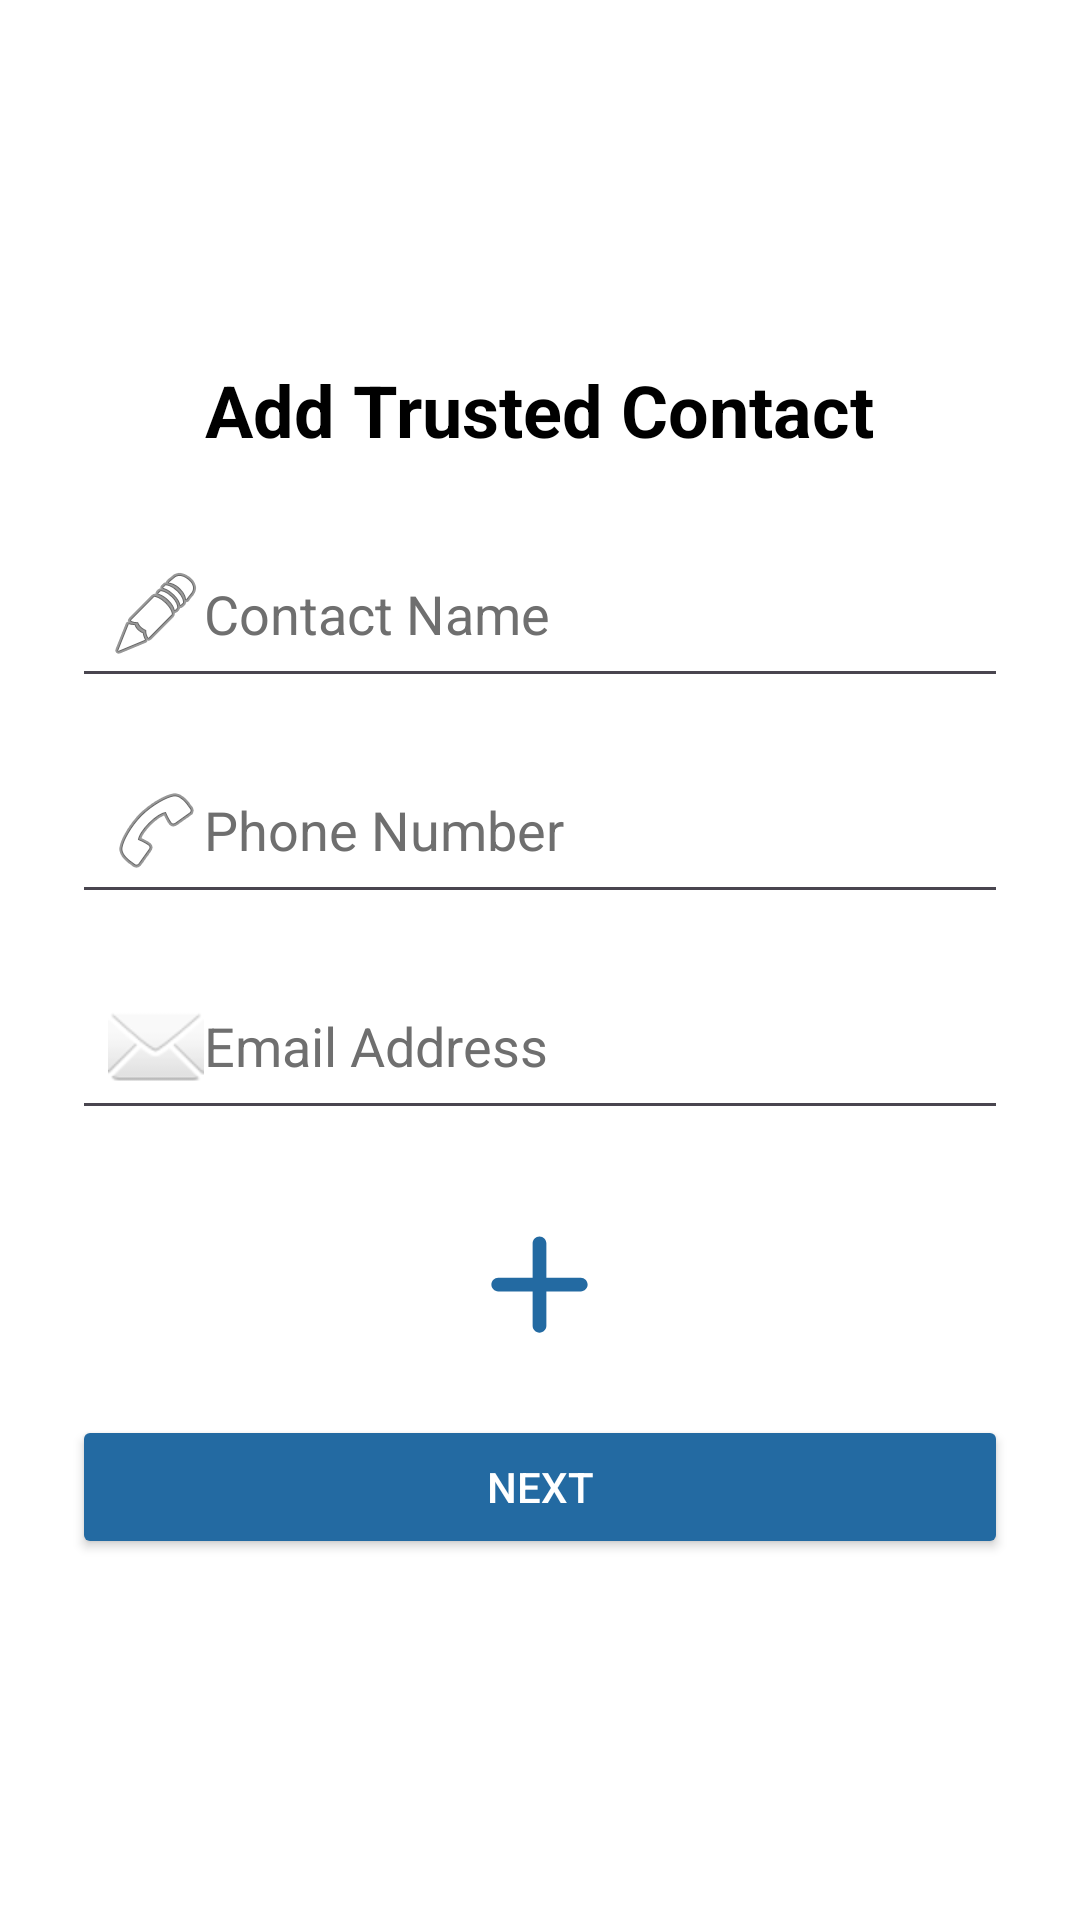

Point at icon controls on the screen. Image size 1080*1920, points as point (x, y).
add: point (539, 1284)
